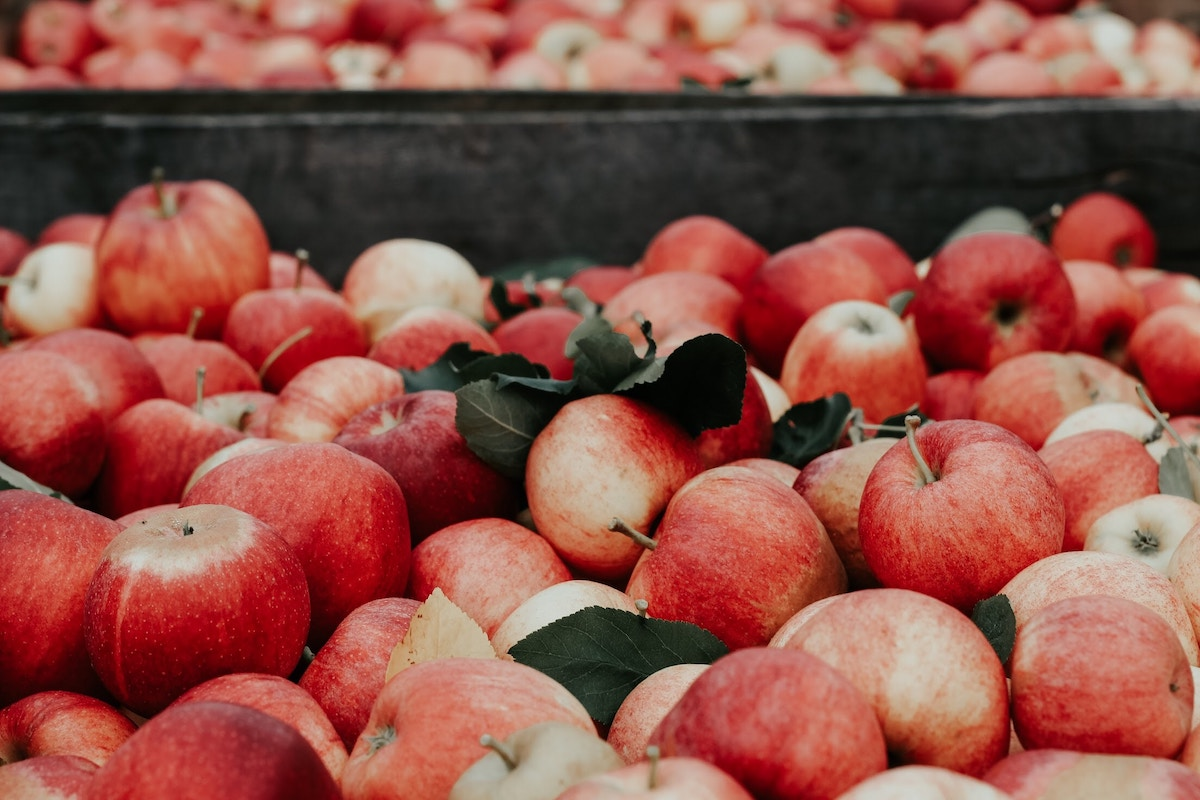Apple: (102, 490, 308, 708), (850, 420, 1076, 616), (666, 646, 892, 800), (102, 170, 280, 342), (516, 390, 686, 558), (782, 312, 948, 436)
